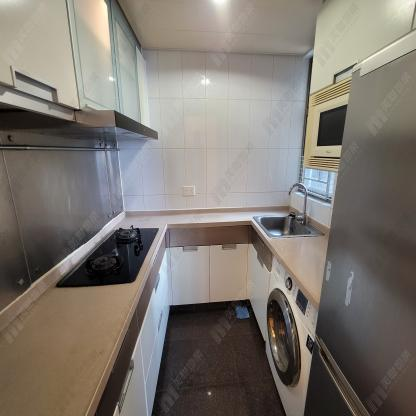Cupboard: (102, 224, 275, 411), (0, 0, 150, 125)
Exhaust Hood: (3, 109, 159, 141)
Faucet: (286, 183, 308, 227)
Fridge: (305, 31, 414, 416)
Microwave: (302, 77, 352, 174)
Sink: (255, 214, 326, 239)
Stove: (55, 224, 156, 287)
